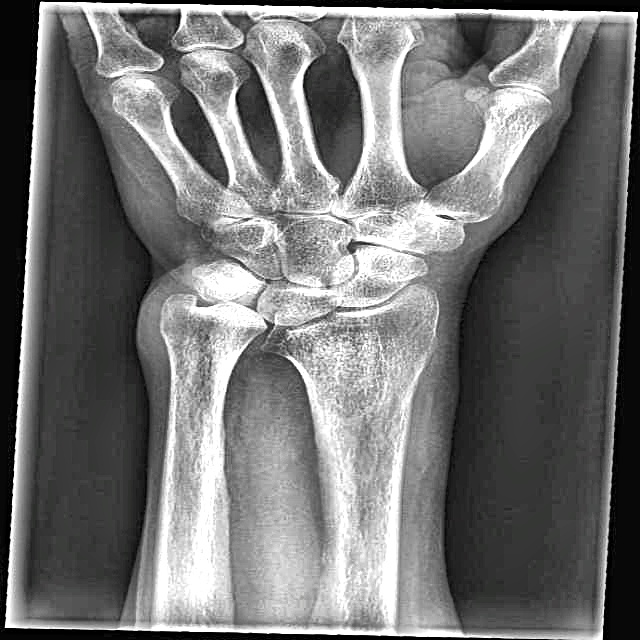Healthy: (93, 47, 519, 565)
